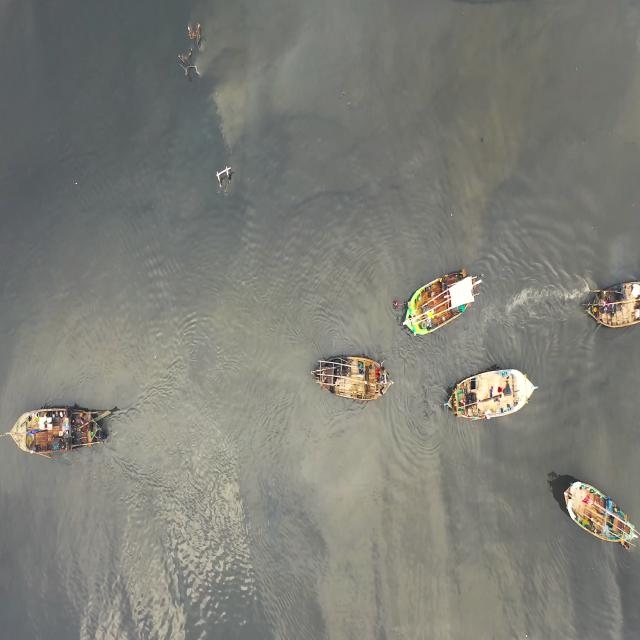ship: (402, 252, 482, 342), (563, 469, 640, 555), (0, 401, 115, 456), (444, 366, 542, 419), (314, 353, 392, 408), (580, 275, 640, 326)
